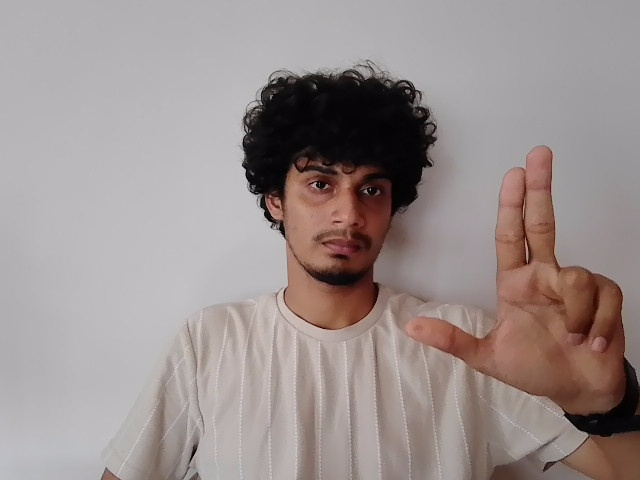no: (415, 146, 635, 394)
